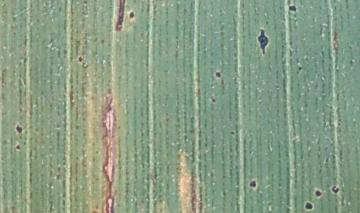tarspot: (254, 27, 271, 56), (114, 1, 127, 33), (287, 3, 298, 14), (303, 201, 314, 212), (15, 123, 24, 136), (248, 179, 258, 190), (330, 184, 340, 194), (128, 10, 136, 21), (209, 94, 217, 105), (313, 189, 322, 198), (76, 54, 84, 64), (214, 70, 222, 80), (295, 65, 304, 72), (14, 143, 21, 151), (228, 130, 236, 136)
